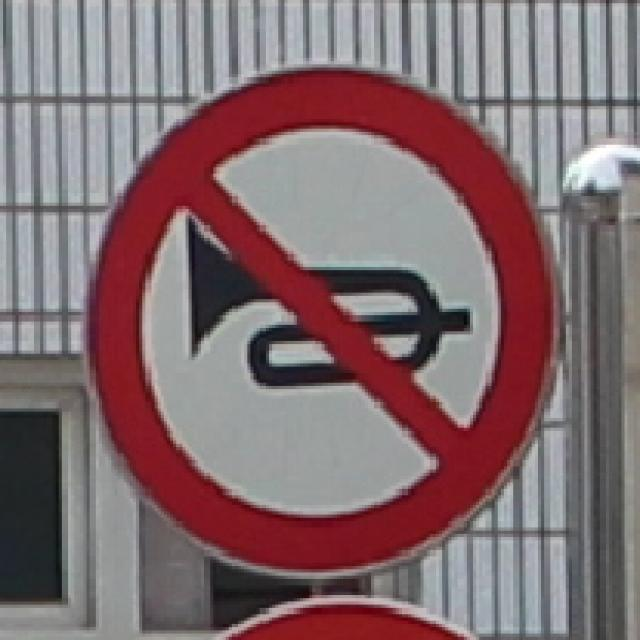No Horn: (88, 63, 562, 583)
